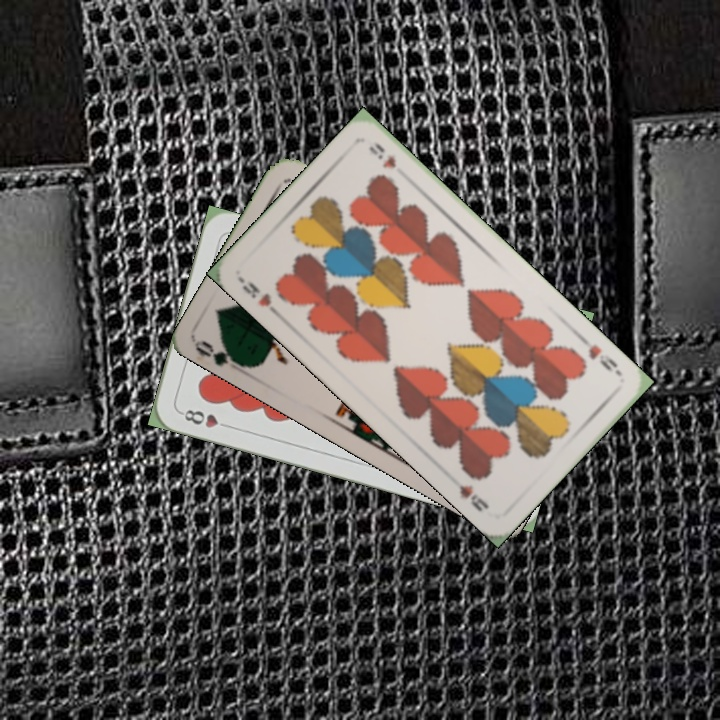GO: (193, 336, 250, 370)
H8: (176, 405, 234, 431)
H9: (238, 277, 283, 319), (579, 333, 620, 374)
